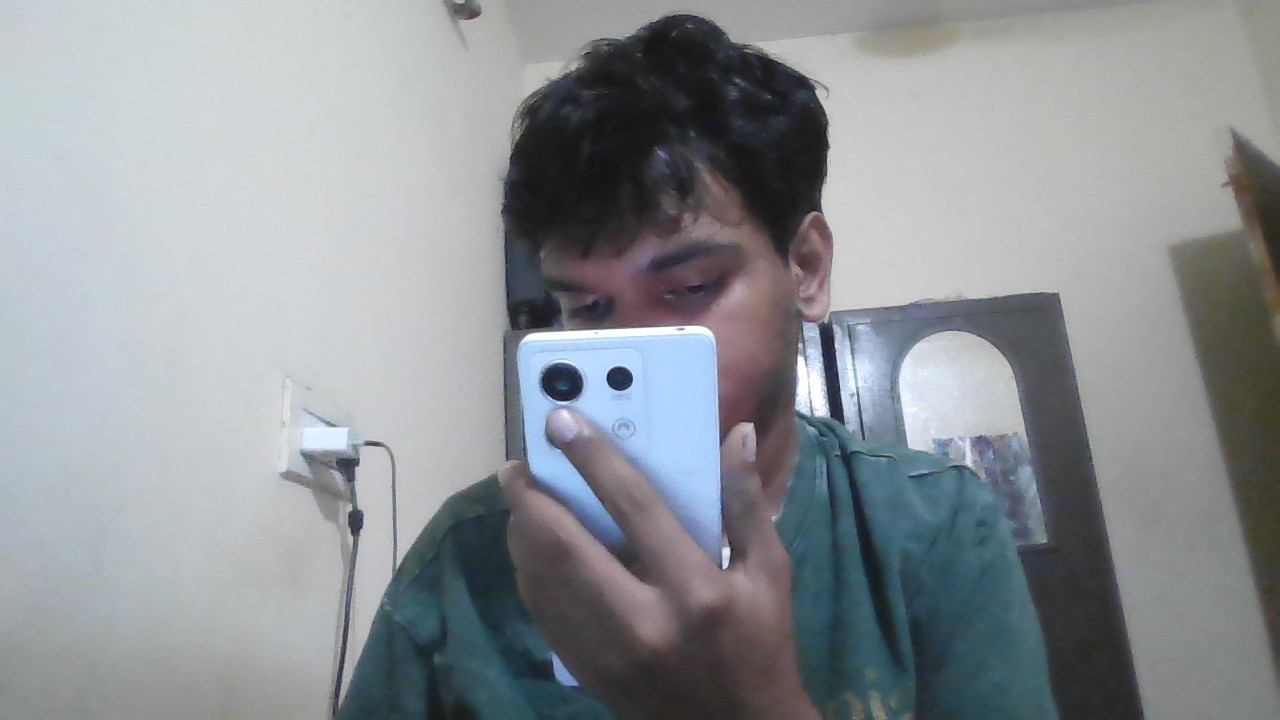phone: (512, 324, 727, 471)
